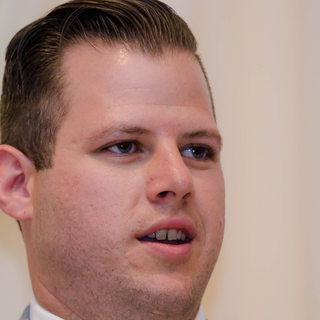eye: (96, 136, 149, 162), (174, 138, 220, 165)
